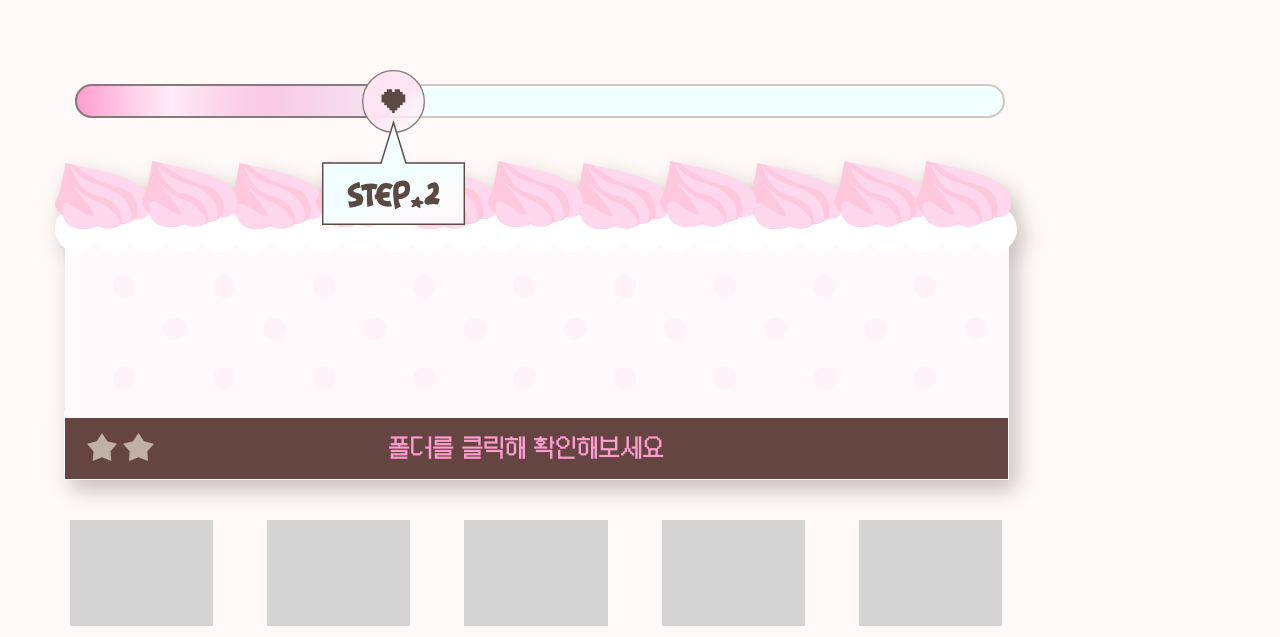
it: StyleScreen › 첫 폴더가 열린 채로 시작하고, 다른 폴더를 누르면 그 스타일 창으로 바뀐다
Click the button with aria-label "Cute Collector 폴더" at (536, 573), box [464,520,608,626]
(page scrolled)
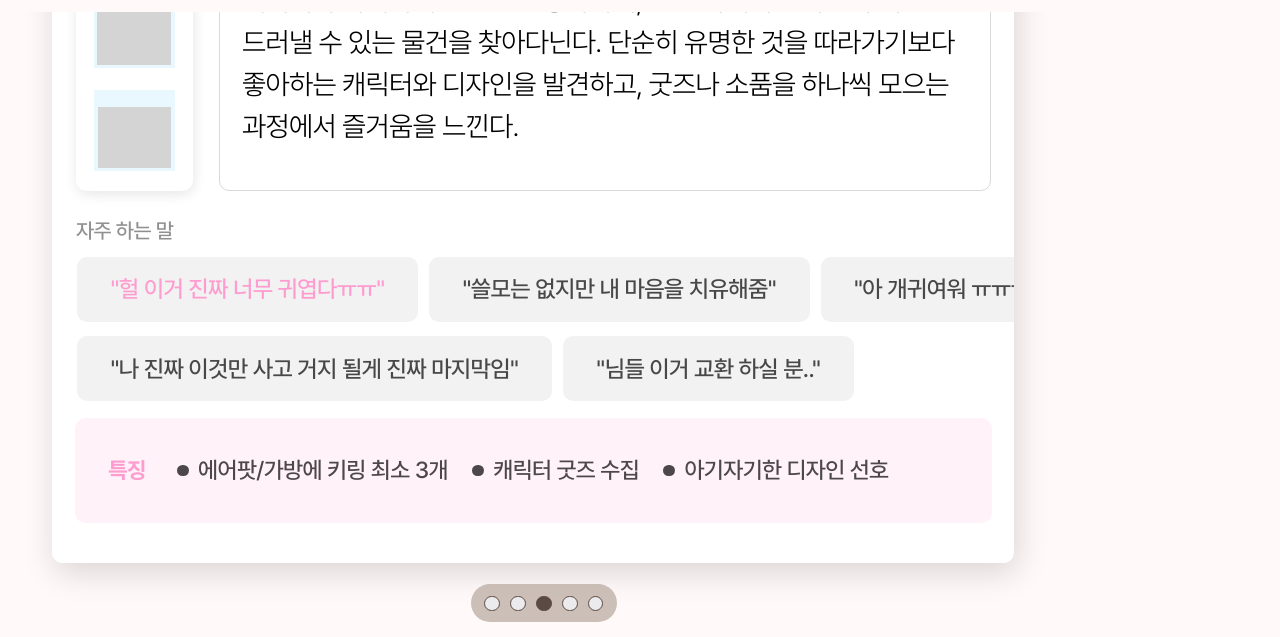
expect the text "캐릭터와 아기자기한 소품을 좋아하며, 일상 속에서도 자신의 취향을 드러낼 수 있는 물건을 찾아다닌다. 단순히 유명한 것을 따라가기보다 좋아하는 캐릭터와 디자인을 발견하고, 굿즈나 소품을 하나씩 모으는 과정에서 즐거움" is shown: met, box [242,12,954,143]
expect the text "\"헐 이거 진짜 너무 귀엽다ㅠㅠ\"" is shown: met, box [77,257,418,322]
expect the list item "에어팟/가방에 키링 최소 3개" is shown: met, box [177,454,448,487]
